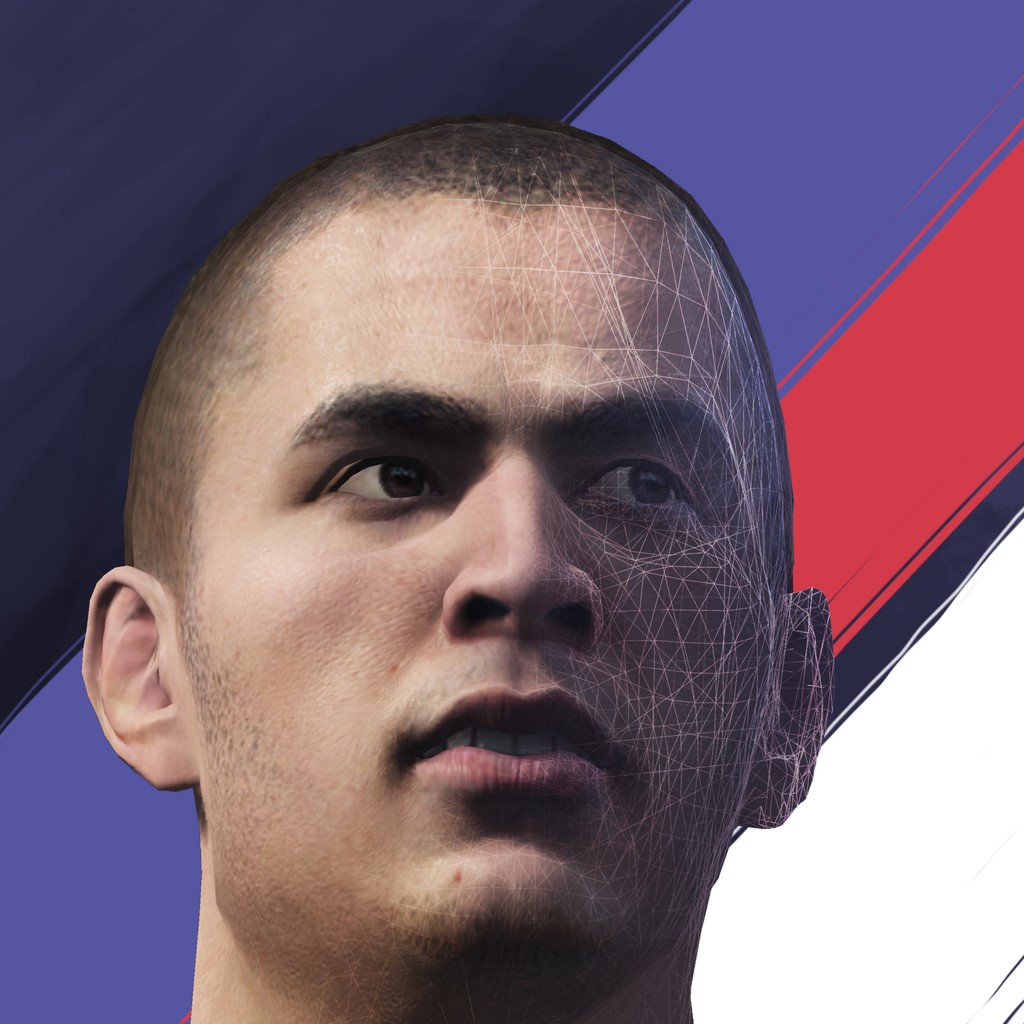sin_mascara: (146, 149, 758, 1002)
